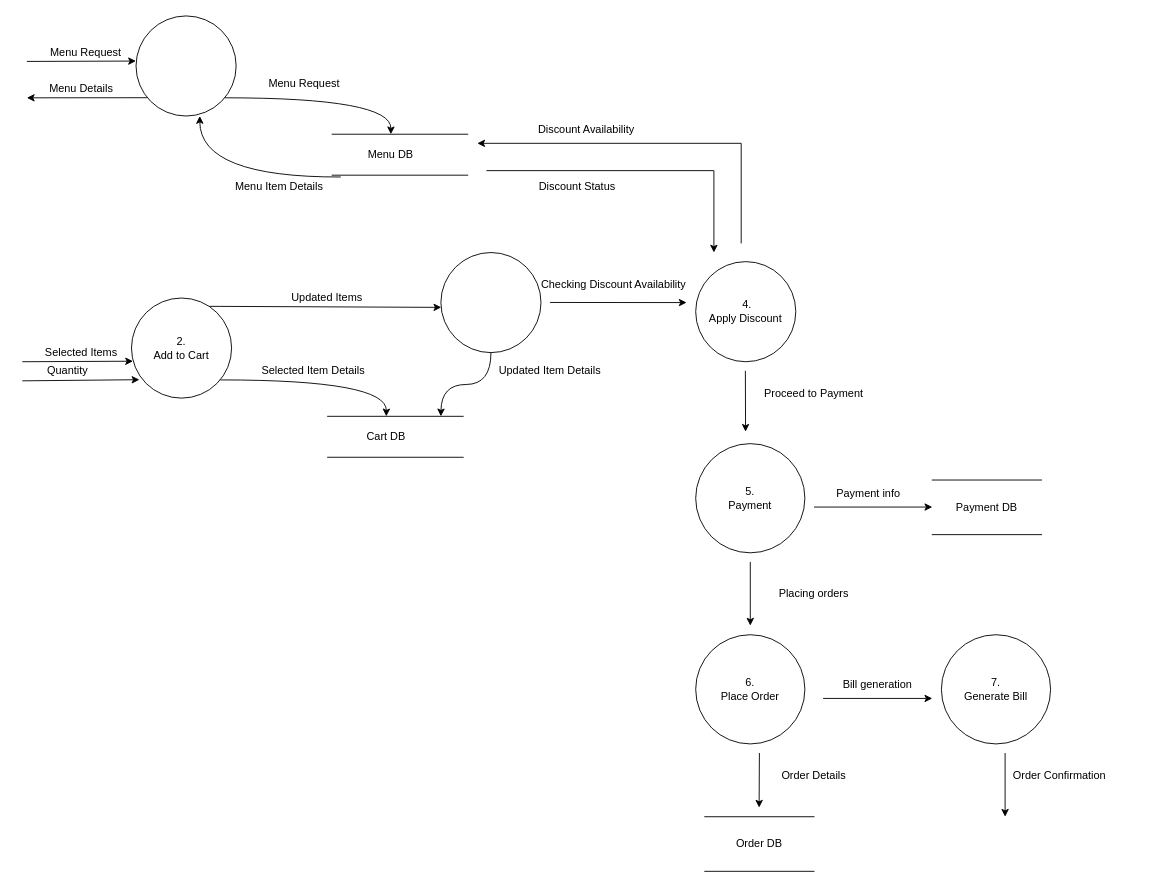
Image size: 1158x887. Some labels were removed from this diagram. The centre of each missing label's shape, as x and y in pixels:
"1. Browse Menu" goes at pixel 185 65.
"3 Update Cart Items" goes at pixel 490 302.
